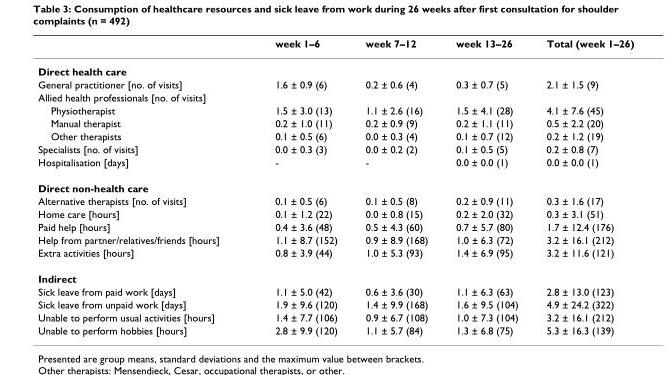table: (37, 36, 633, 335)
table column: (37, 36, 246, 335), (246, 36, 350, 335), (531, 36, 633, 335), (350, 36, 441, 335), (441, 36, 531, 335)
table column header: (37, 36, 633, 56)
table projected row header: (37, 56, 633, 77), (37, 174, 633, 194), (37, 265, 633, 284), (37, 90, 633, 103)
table row: (37, 56, 633, 77), (37, 36, 633, 56), (37, 174, 633, 194), (37, 245, 633, 265), (37, 155, 633, 174), (37, 265, 633, 284), (37, 77, 633, 90), (37, 90, 633, 103), (37, 103, 633, 116), (37, 116, 633, 129), (37, 129, 633, 142), (37, 142, 633, 155), (37, 206, 633, 219), (37, 219, 633, 232), (37, 232, 633, 245), (37, 284, 633, 297), (37, 297, 633, 310), (37, 310, 633, 323), (37, 194, 633, 206), (37, 323, 633, 335)
